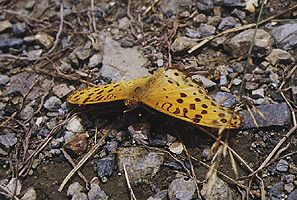Argyreus hyperbius: (64, 65, 247, 131)
butterfly: (66, 67, 249, 133)
